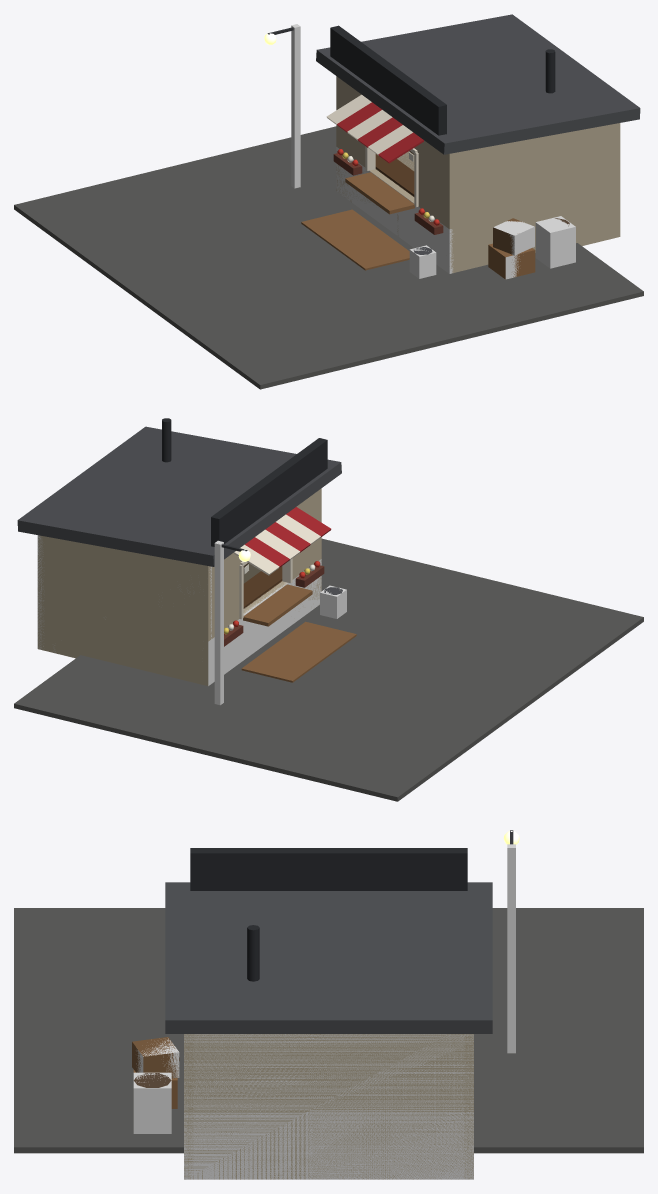
The model's file is booth-12.glb.
3 views of the same model, one above another, from view 1: azimuth 30°, elevation 25°; view 2: azimuth 150°, elevation 25°; view 3: azimuth 270°, elevation 25° (orthographic). The views are drawn at different scales.
Parts seen in each view (by area): view 1: 26_#5a5a58_noshadow, 27_#4c4e52, 16_#b8ac94, 28_#2a2c30_noshadow, 04_#8a6440_noshadow, solid.008, 17_#b8ac94_r320, 09_#8a6440_r320, 00_#e8e0d0_noshadow_r320, solid.003, 01_#a3262c_noshadow_r320, solid.004 (+4 smaller); view 2: 26_#5a5a58_noshadow, 27_#4c4e52, 16_#b8ac94, 28_#2a2c30_noshadow, 04_#8a6440_noshadow, solid.008, 00_#e8e0d0_noshadow_r320, 17_#b8ac94_r320, solid.004, 01_#a3262c_noshadow_r320, 09_#8a6440_r320, 21_#5a3e26_noshadow (+2 smaller); view 3: 26_#5a5a58_noshadow, 27_#4c4e52, solid.005, 16_#b8ac94, 28_#2a2c30_noshadow, solid.003, solid.004, 10_#7a5a3a_r110, 15_#2a2c30_r320, solid.002.
Boxes of the visible parts, <box> form: 26_#5a5a58_noshadow: <box>14,126,643,389</box>; 27_#4c4e52: <box>316,14,640,154</box>; 16_#b8ac94: <box>336,76,620,273</box>; 28_#2a2c30_noshadow: <box>330,25,446,135</box>; 04_#8a6440_noshadow: <box>301,209,409,270</box>; solid.008: <box>336,147,453,273</box>; 17_#b8ac94_r320: <box>336,93,455,228</box>; 09_#8a6440_r320: <box>345,172,535,279</box>; 00_#e8e0d0_noshadow_r320: <box>326,94,418,206</box>; solid.003: <box>535,216,575,268</box>; 01_#a3262c_noshadow_r320: <box>337,102,423,163</box>; solid.004: <box>291,24,300,188</box>; 26_#5a5a58_noshadow: <box>14,538,643,801</box>; 27_#4c4e52: <box>17,426,341,566</box>; 16_#b8ac94: <box>37,488,321,685</box>; 28_#2a2c30_noshadow: <box>211,438,327,546</box>; 04_#8a6440_noshadow: <box>241,621,356,682</box>; solid.008: <box>208,559,321,685</box>; 00_#e8e0d0_noshadow_r320: <box>234,514,320,619</box>; 17_#b8ac94_r320: <box>207,505,321,638</box>; solid.004: <box>214,540,223,705</box>; 01_#a3262c_noshadow_r320: <box>245,507,331,567</box>; 09_#8a6440_r320: <box>243,584,312,626</box>; 21_#5a3e26_noshadow: <box>243,566,282,608</box>; 26_#5a5a58_noshadow: <box>14,908,643,1153</box>; 27_#4c4e52: <box>165,882,492,1033</box>; solid.005: <box>184,1034,473,1179</box>; 16_#b8ac94: <box>184,1034,473,1179</box>; 28_#2a2c30_noshadow: <box>190,848,467,890</box>; solid.003: <box>133,1072,171,1133</box>; solid.004: <box>507,844,515,1053</box>; 10_#7a5a3a_r110: <box>132,1037,179,1078</box>; 15_#2a2c30_r320: <box>247,925,259,981</box>; solid.002: <box>136,1038,179,1077</box>.
Size of the model in its own units: 10.3 by 3.95 by 10.
